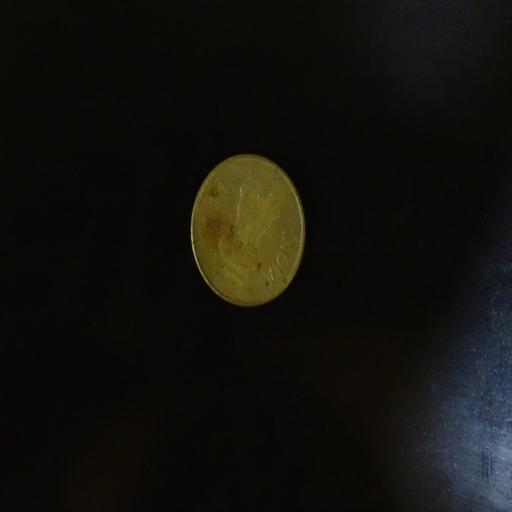rupee5: (189, 152, 307, 309)
